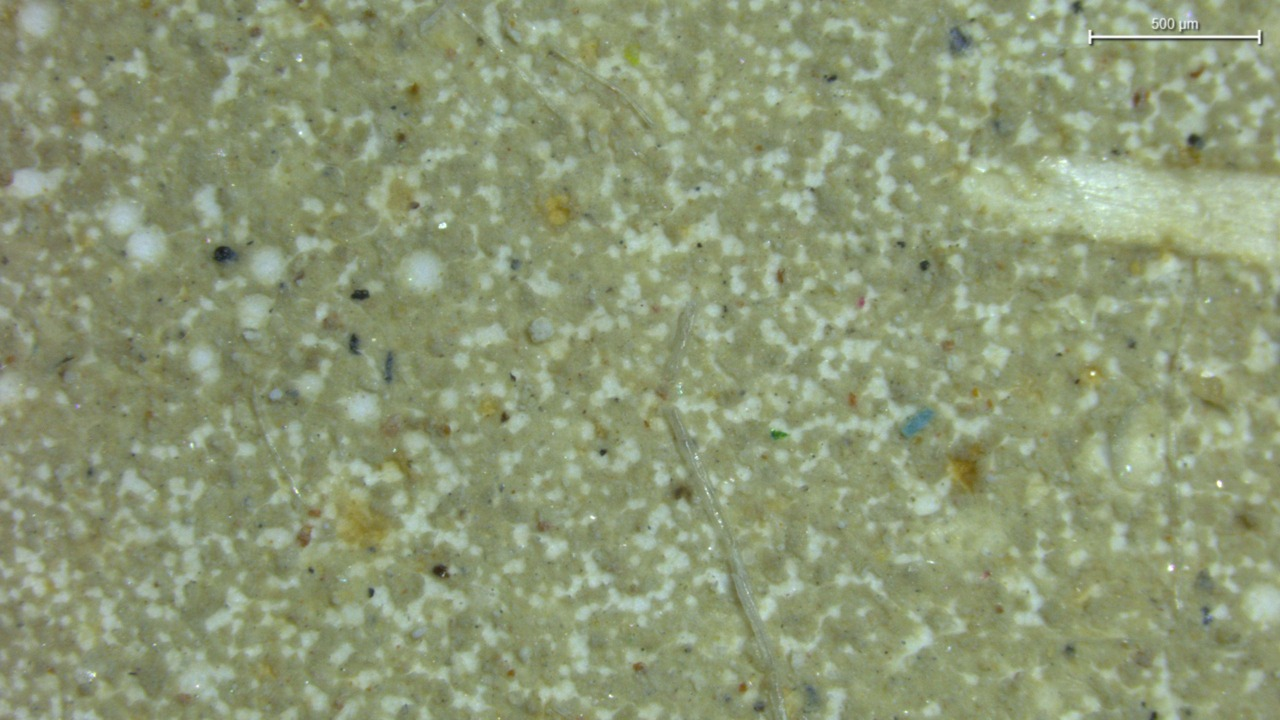microplastic_fragment: (527, 317, 555, 344)
